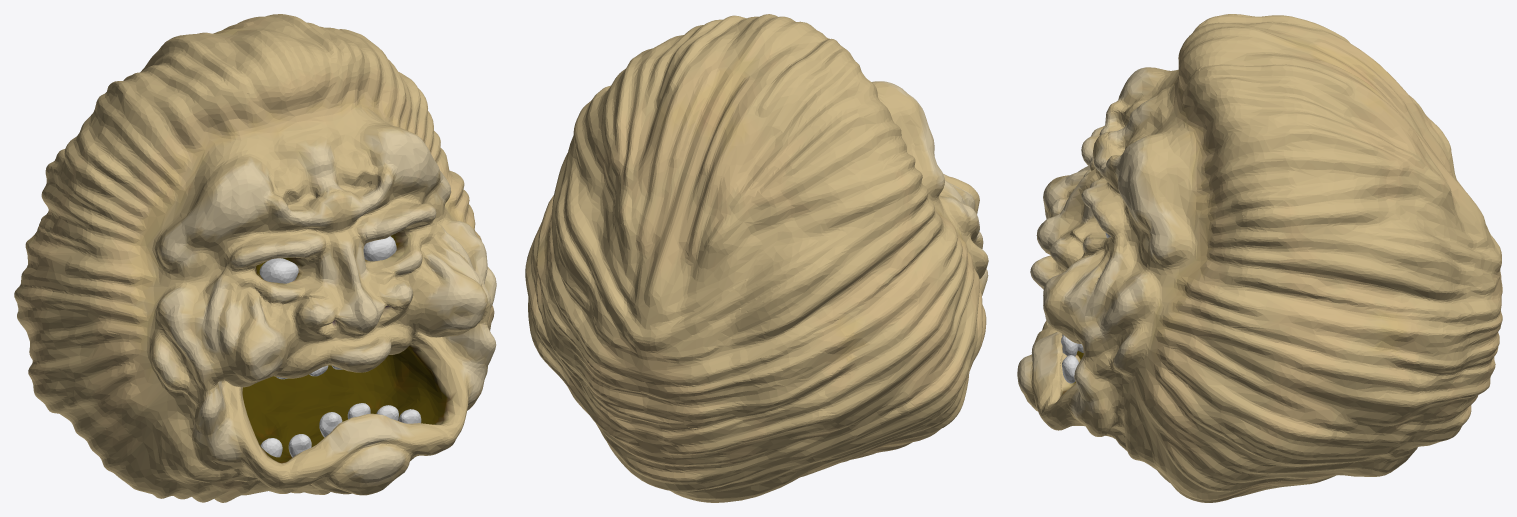
The model's file is Zardoz_01_LOD1.glb.
3 renders of one model, left to right at view 1: azimuth 30°, elevation 25°; view 2: azimuth 150°, elevation 25°; view 3: azimuth 270°, elevation 25°, orthographic. The views are drawn at different scales.
Parts seen in each view (by area): view 1: Zardoz; view 2: Zardoz; view 3: Zardoz.
Part boxes in pixels (left/top/right/bottom): Zardoz: left=14, top=14, right=496, bottom=502; Zardoz: left=525, top=14, right=988, bottom=502; Zardoz: left=1017, top=14, right=1502, bottom=502.
Size of the model in its own units: 1.13 by 1.12 by 1.14.
